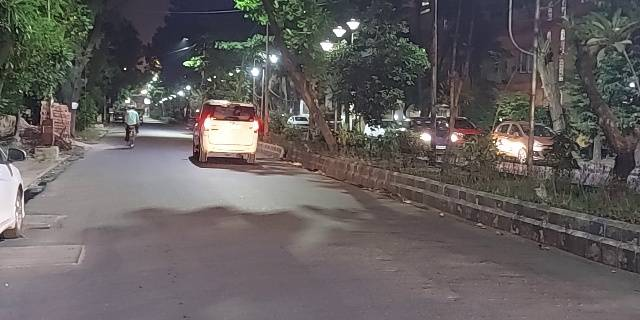Car: (191, 99, 259, 162)
Cycle: (123, 108, 140, 150)
